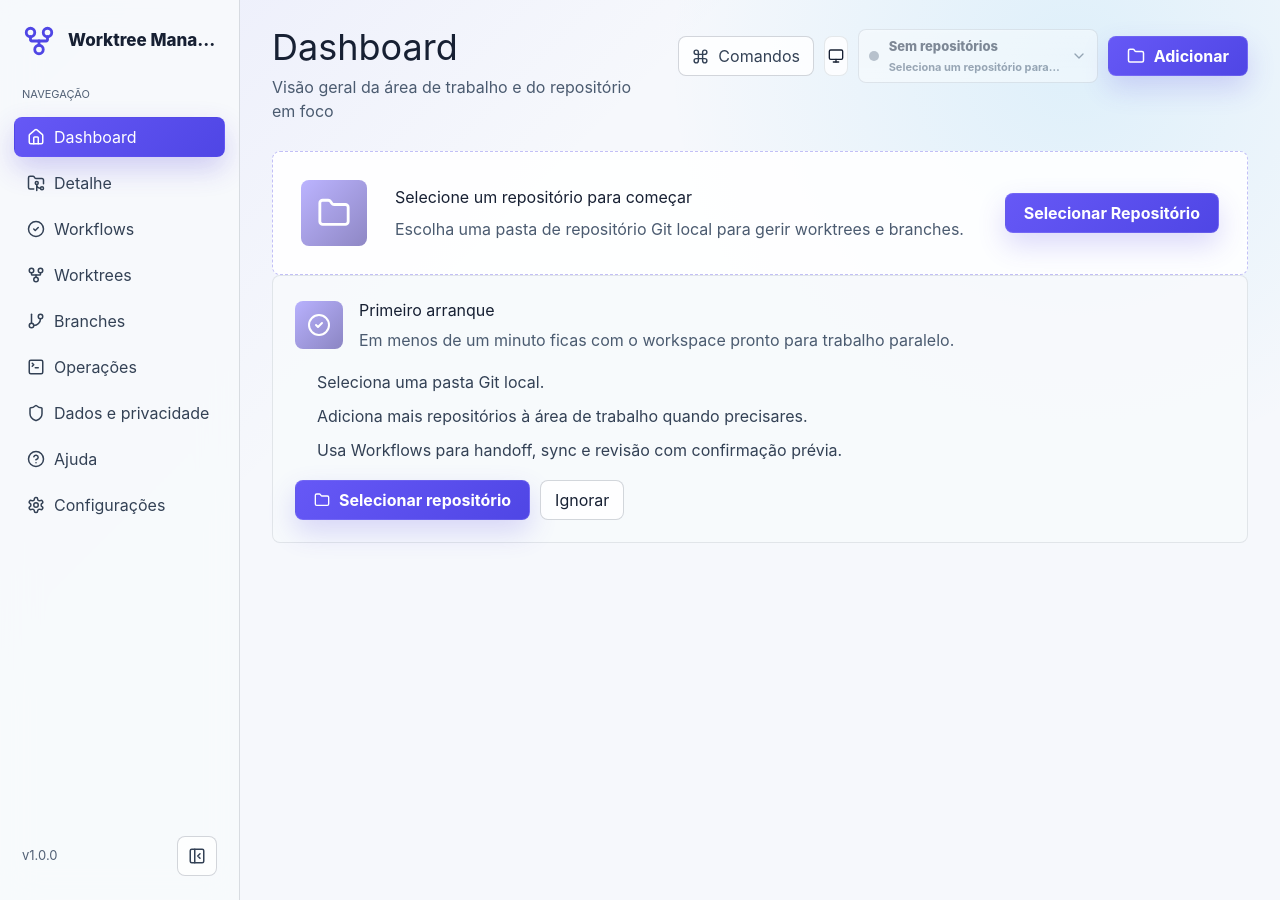
Test: App › opens the command palette and runs a navigation command
The width and height of the screenshot is (1280, 900).
Expected: the heading "Selecione um repositório para começar" is shown, [395,187,692,207]
Click the button with aria-label "Abrir comandos": click(746, 56) [678,36,814,76]
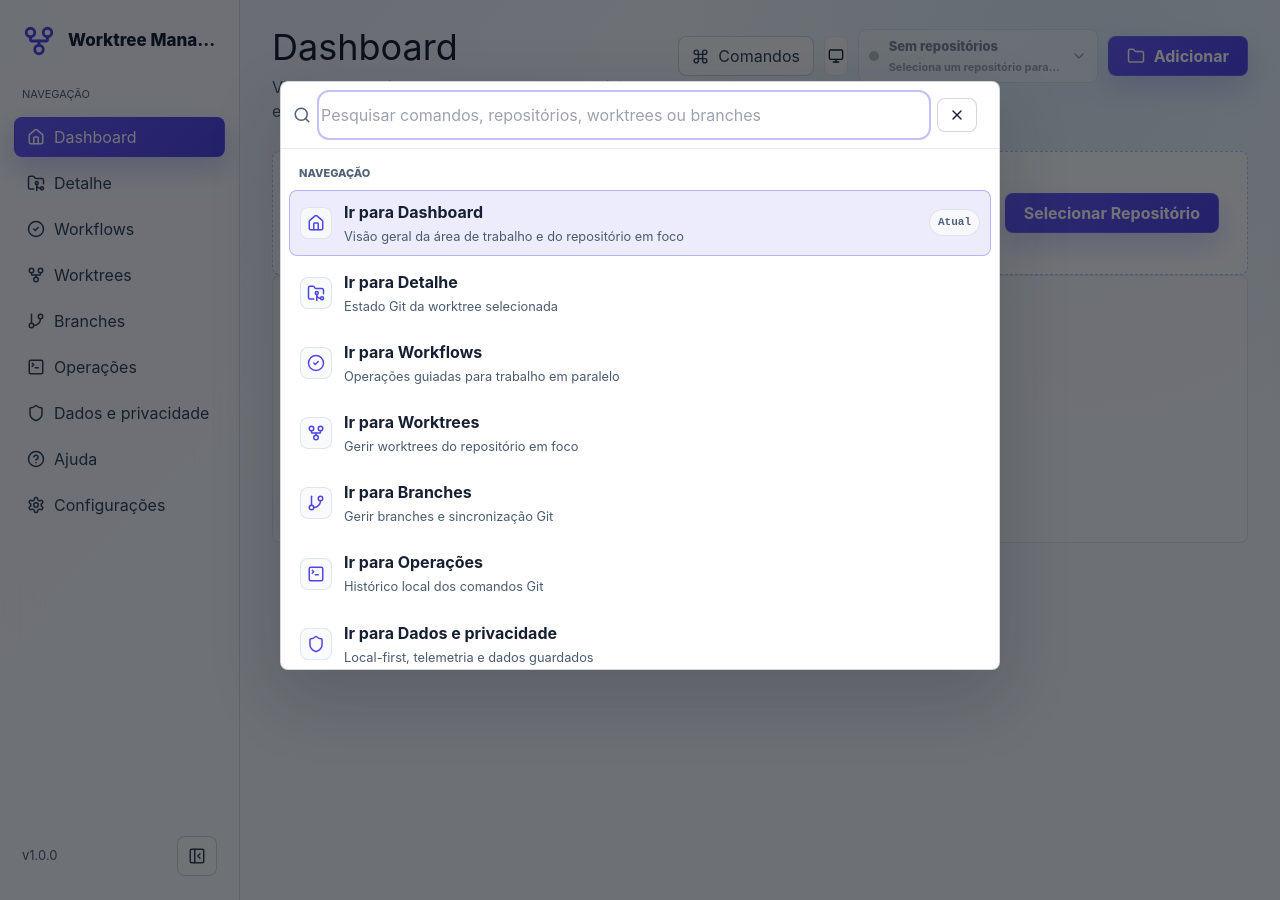
In the field labelled "Pesquisar comandos": (624, 115) [321,94,927,136], type "config"
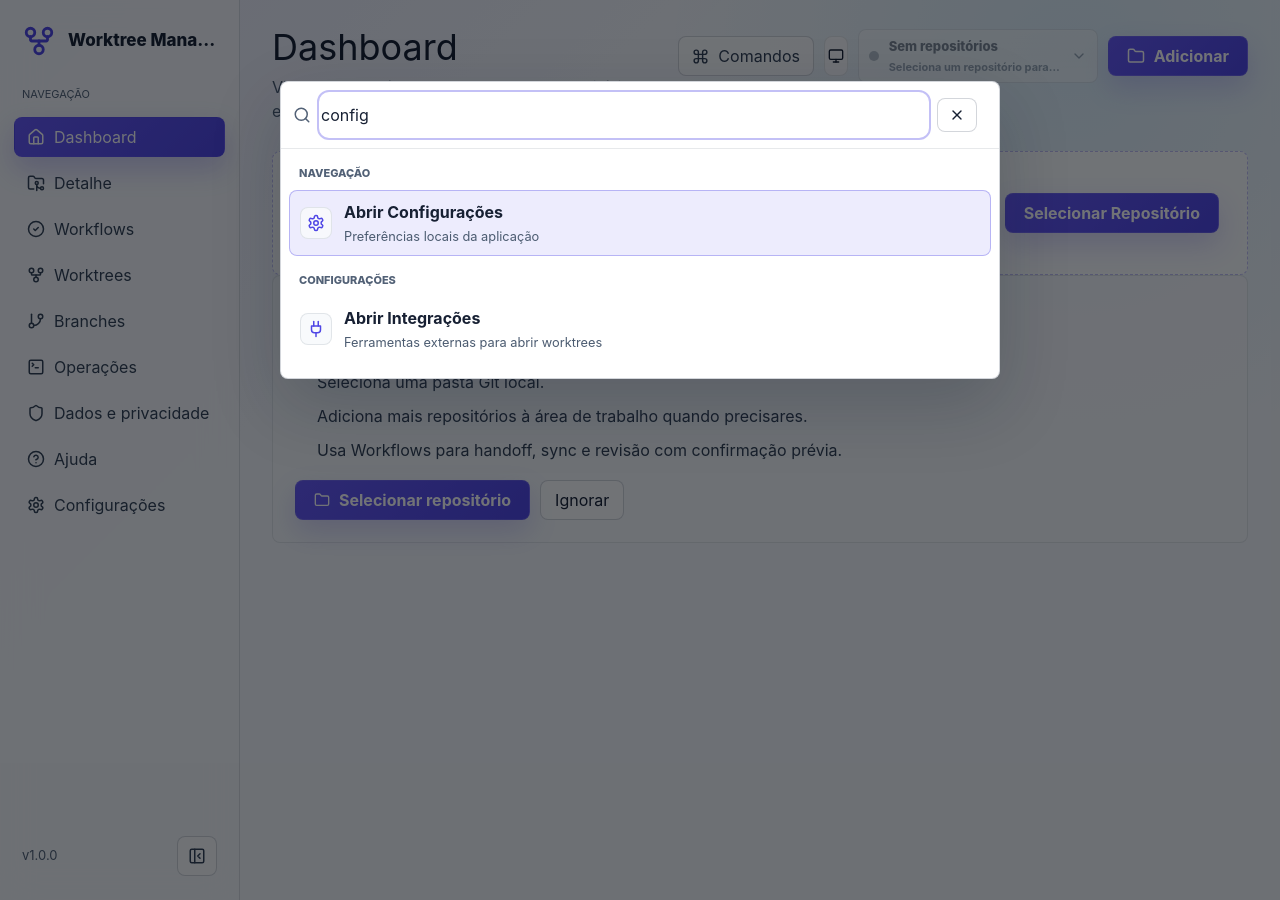
Press Enter in the field named "Pesquisar comandos", box [321,94,927,136]
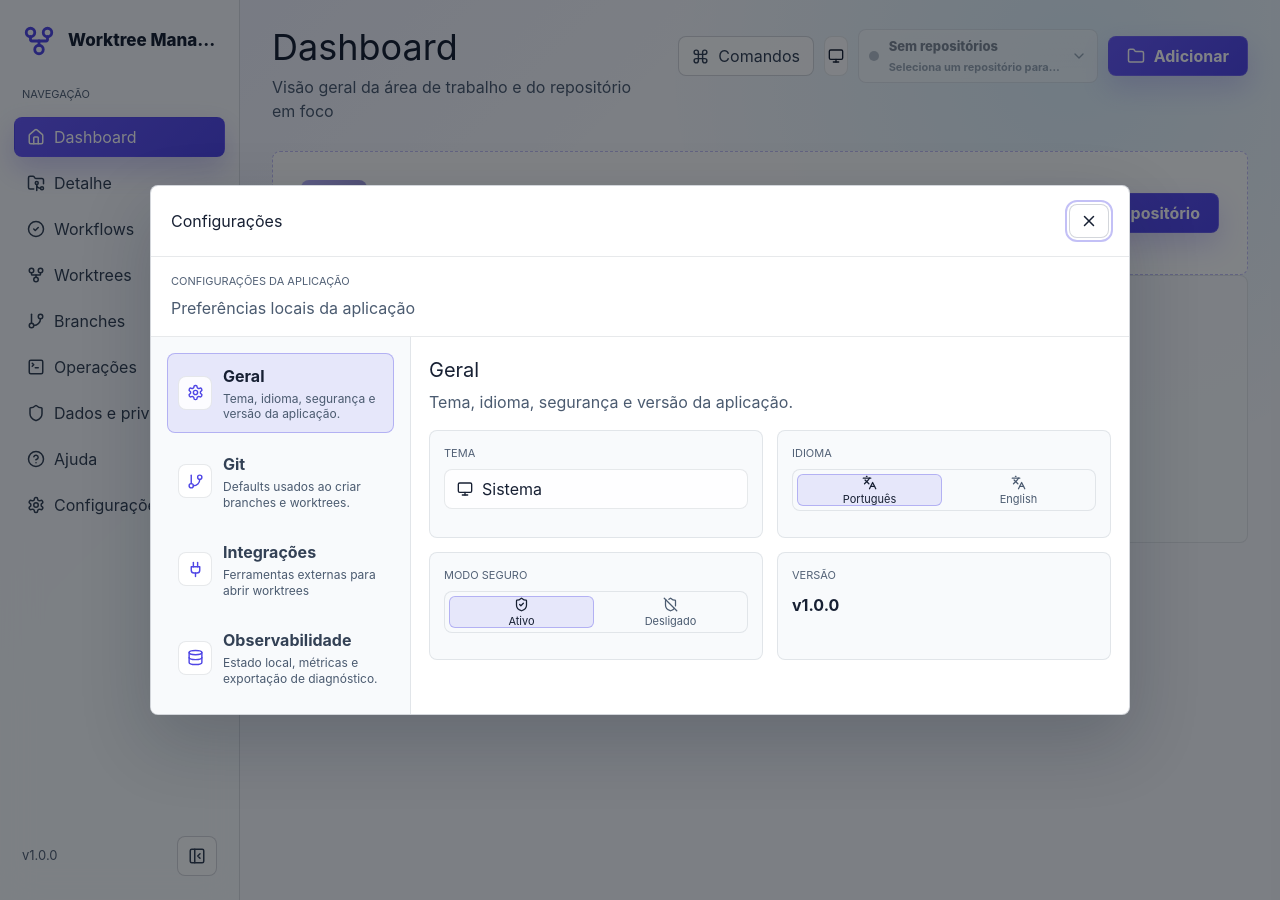
Expected: the field labelled "Pesquisar comandos" is gone
Expected: the dialog "Configurações" is shown, [150,185,1130,715]
Expected: the text "Configurações da aplicação" is shown, [171,274,350,288]
